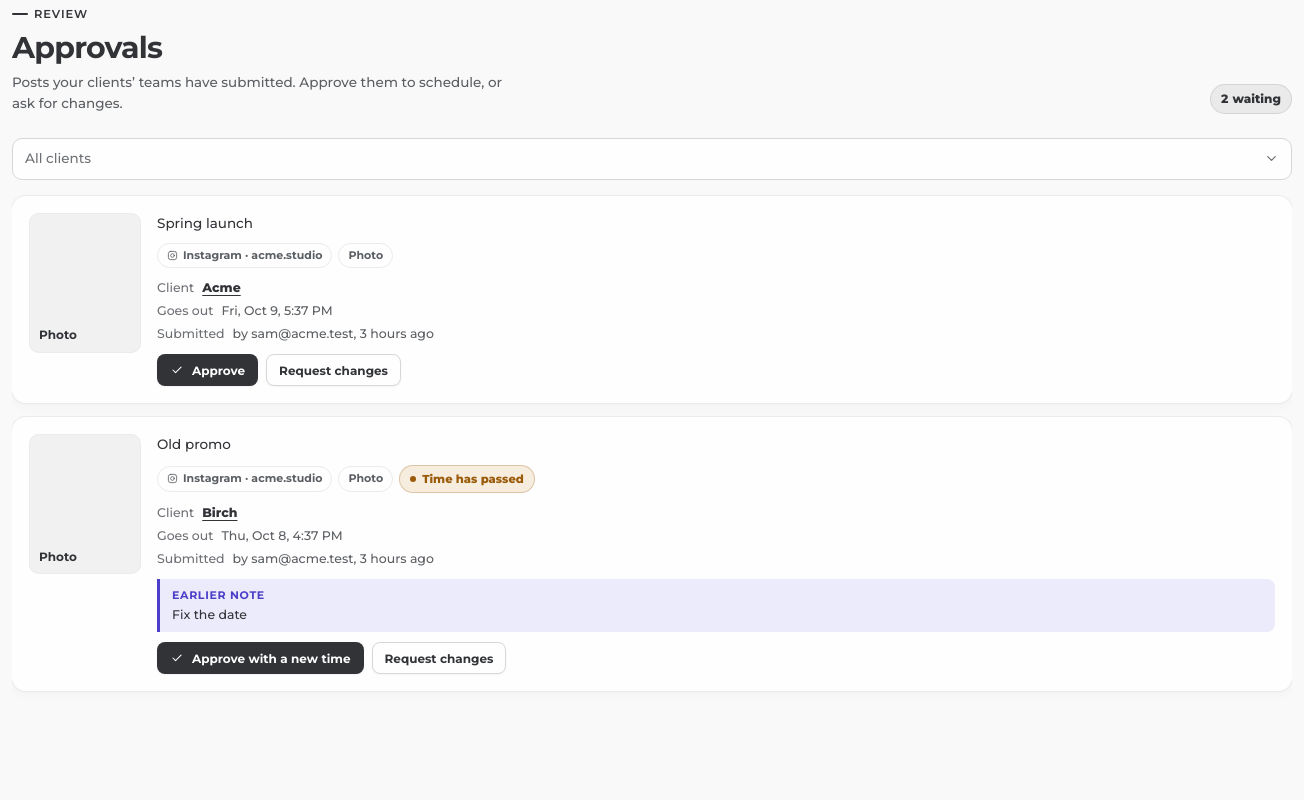
Scenario: Approvals queue › approves at once when the time is still ahead, and removes the card
Check: the text "Spring launch" is shown, box x1=157 y1=214 x2=253 y2=230
Click the button "Approve" at (208, 370), box x1=157 y1=354 x2=258 y2=386
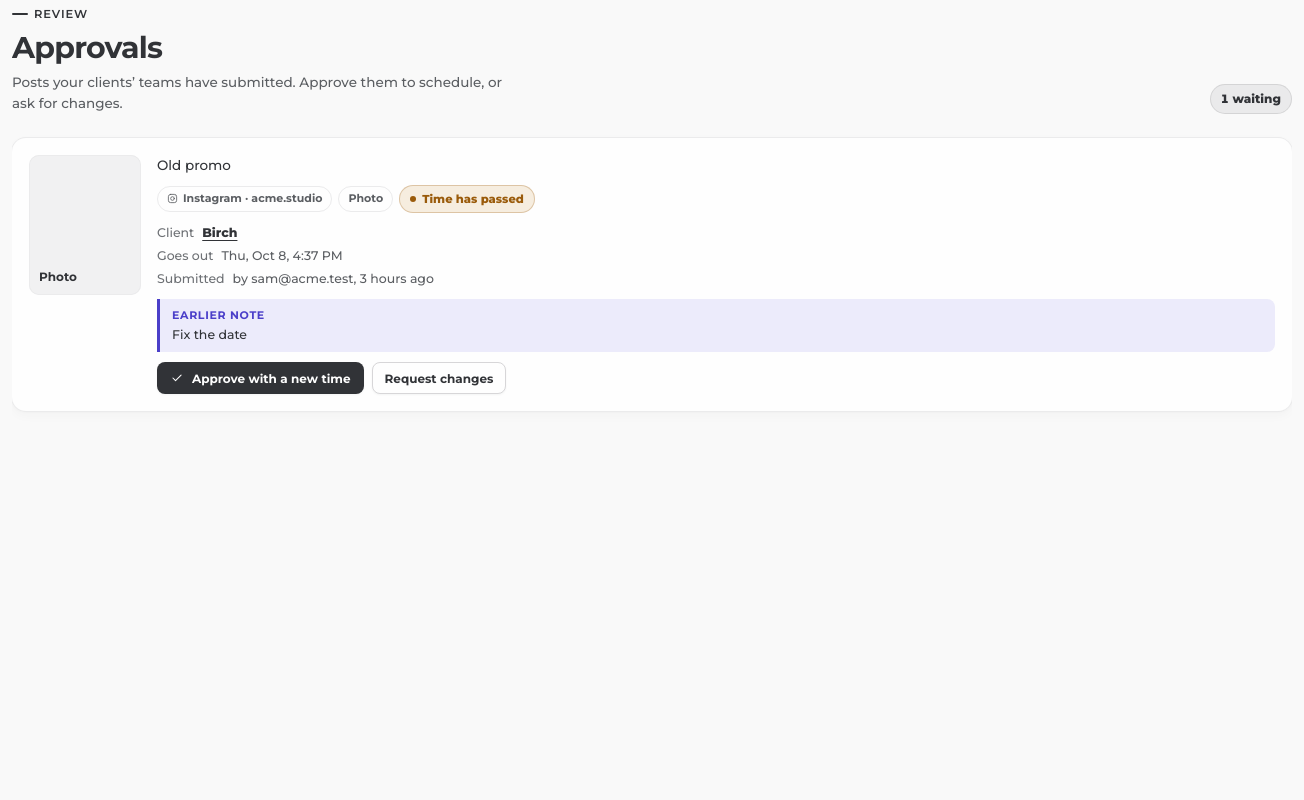
Check: the text "Spring launch" is gone
